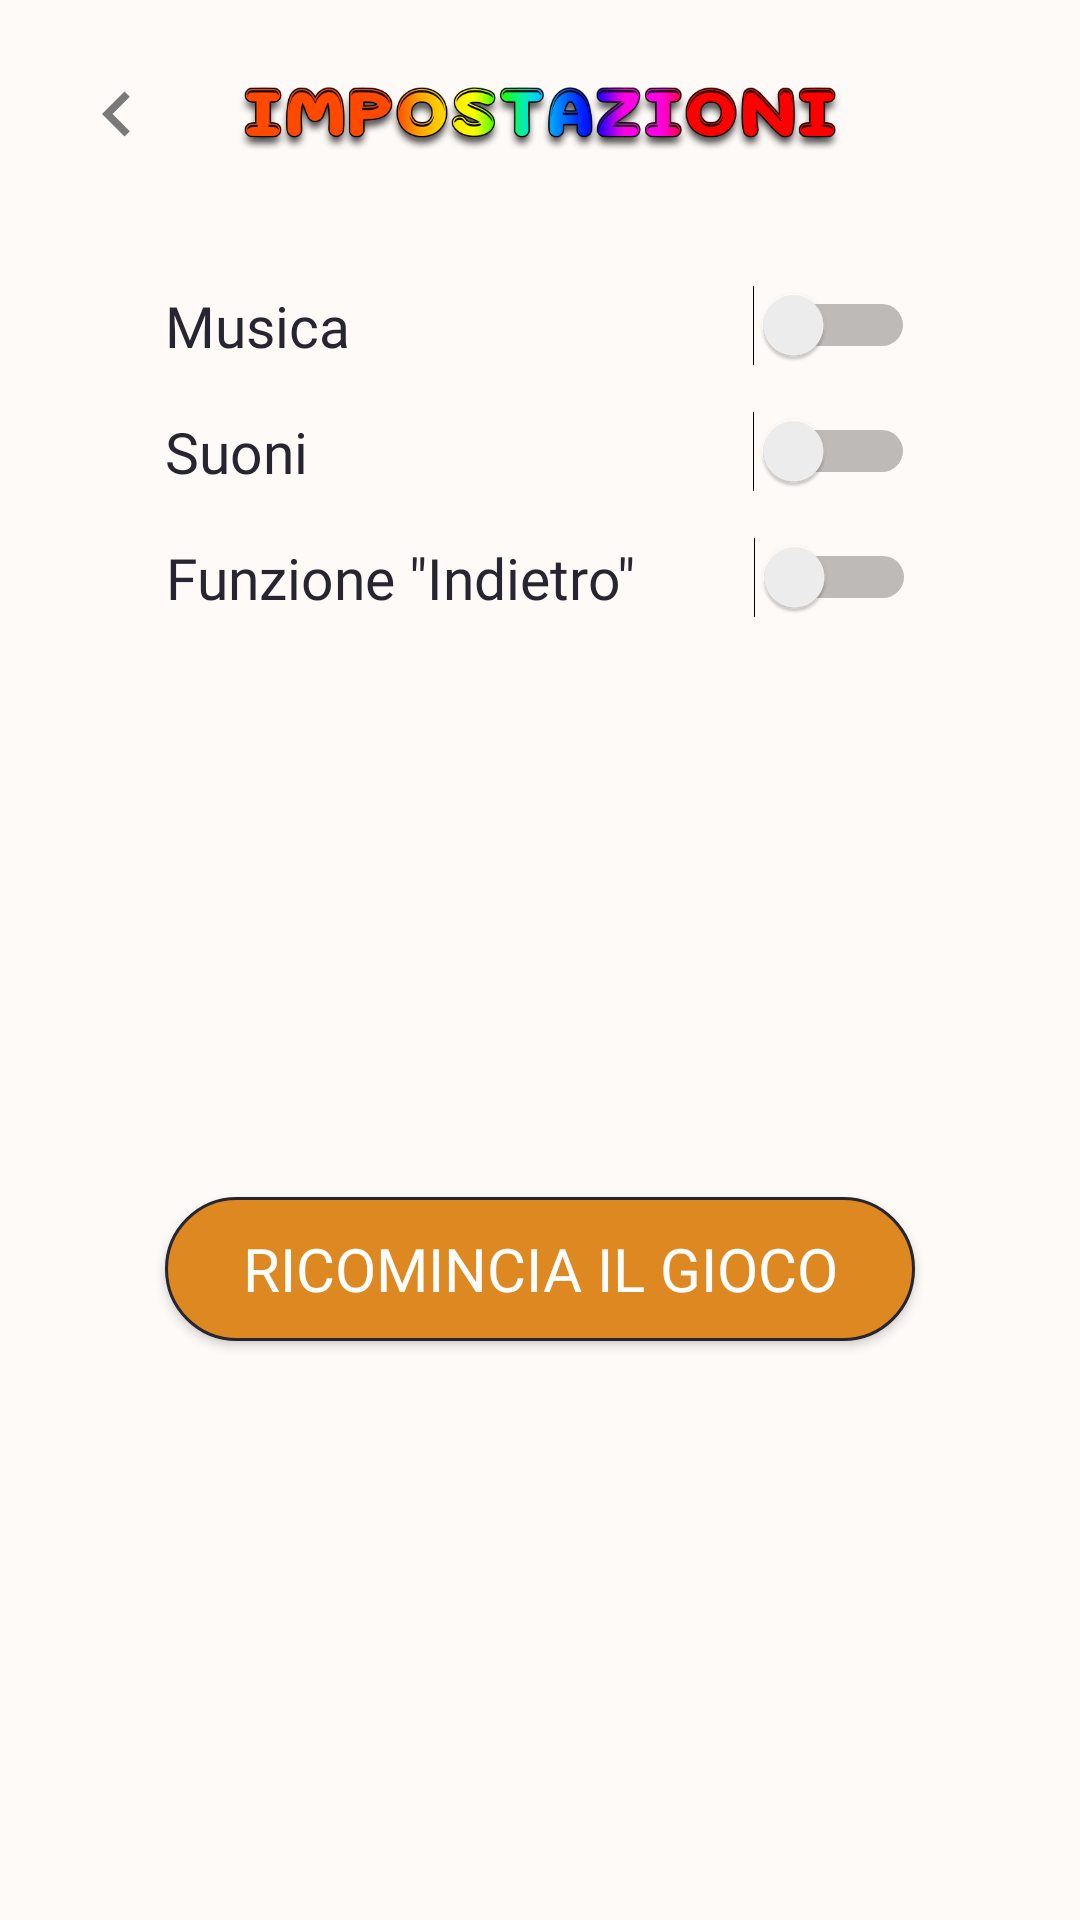

Screen size 1080px×1920px. Icon name, then its center in pixels as [x,y]:
backbutton: [116,114]
